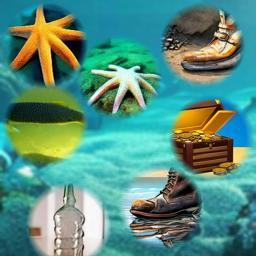not an animal: (129, 169, 202, 224), (182, 10, 243, 74), (48, 183, 90, 254)
treasure: (172, 99, 242, 175)
